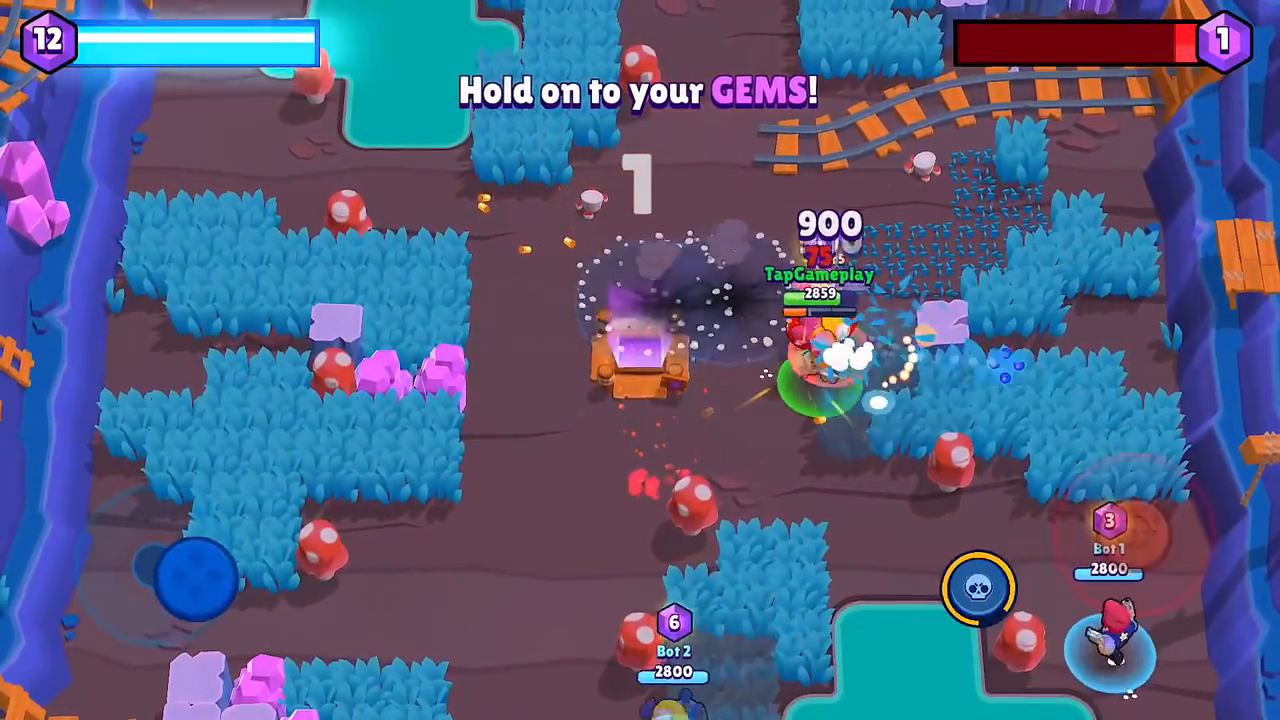move_stick: (155, 536, 250, 614)
red: (789, 263, 874, 358)
